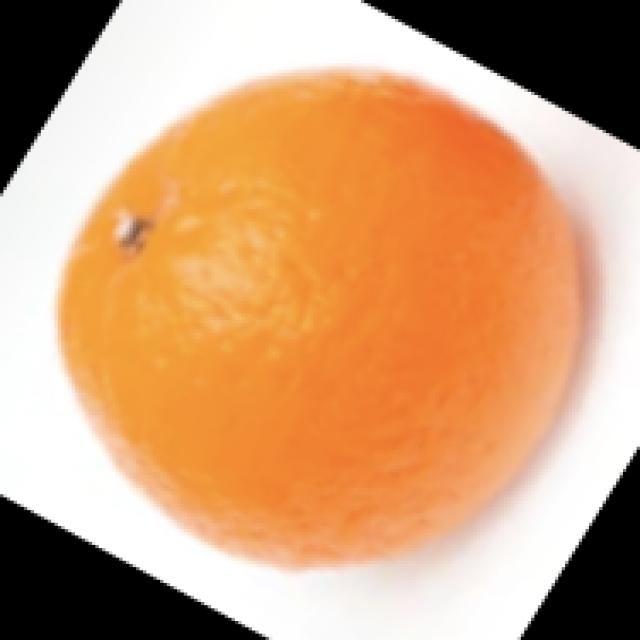fresh: (48, 64, 606, 580)
